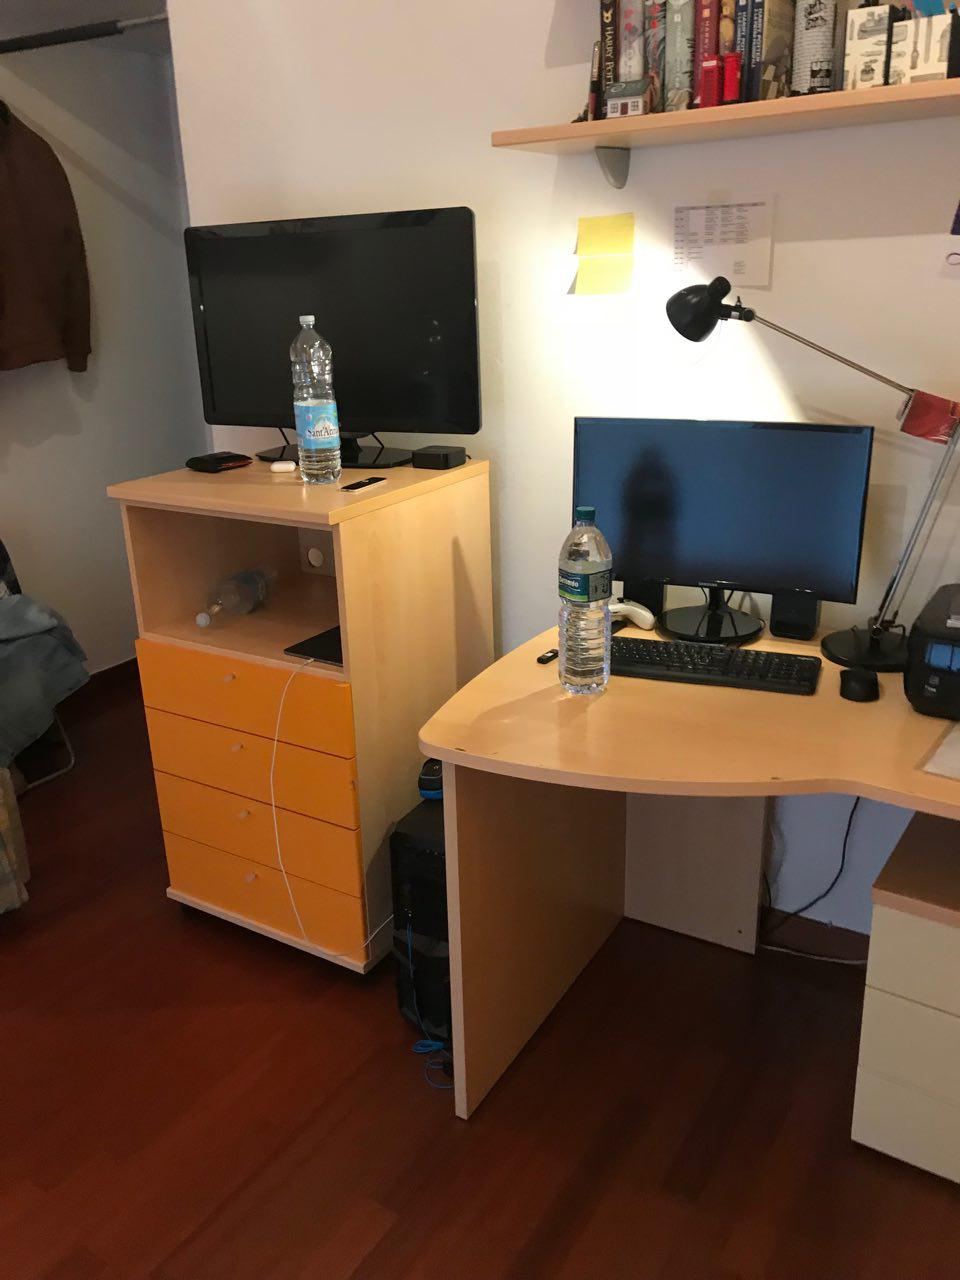san_bernardo: (557, 505, 612, 695)
